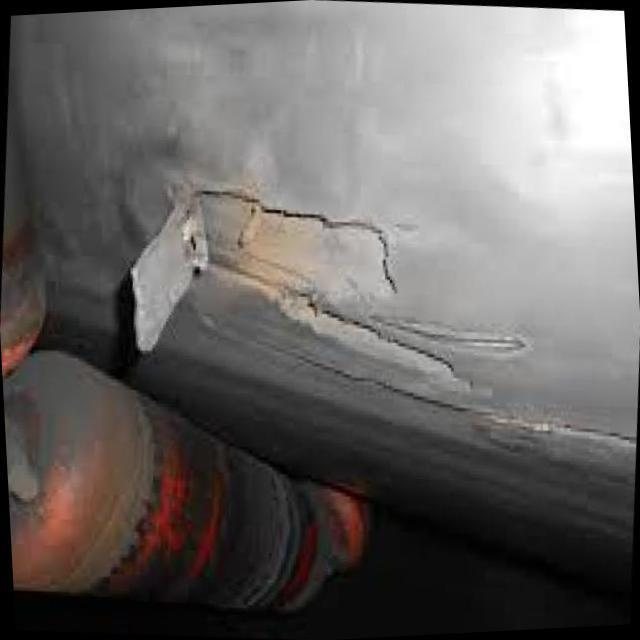Tear: (121, 180, 529, 366)
